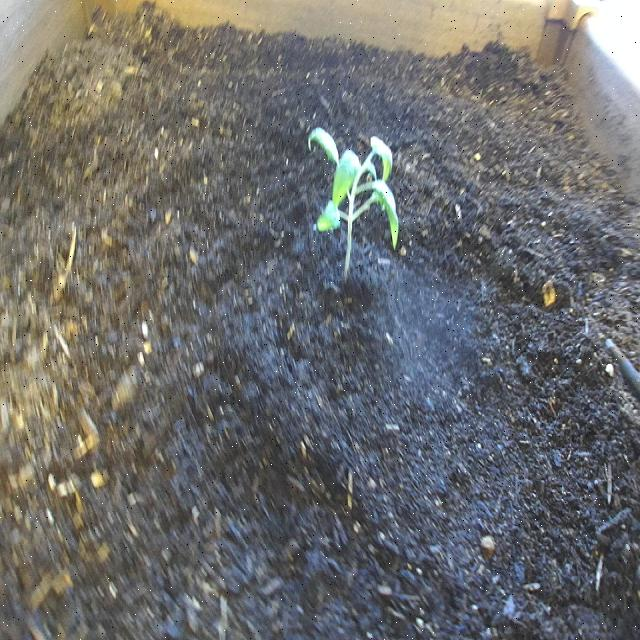Healthy: (304, 120, 404, 286)
